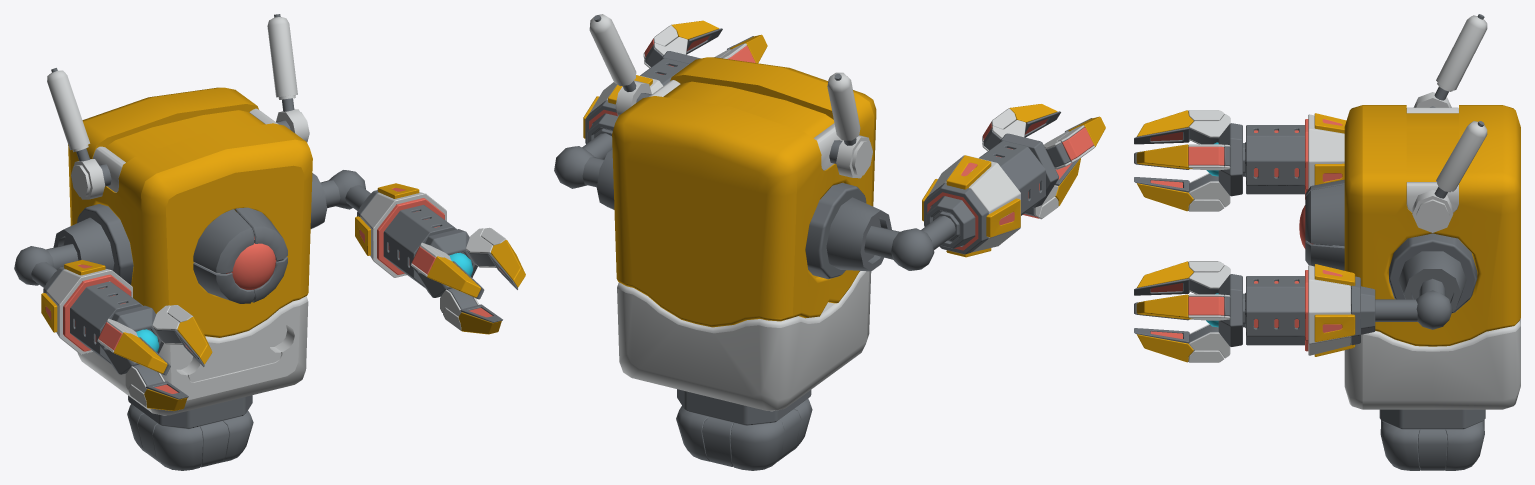
Rendered from CripGun.fbx.
3 views of the same model, side by side, from view 1: azimuth 30°, elevation 25°; view 2: azimuth 150°, elevation 25°; view 3: azimuth 270°, elevation 25° (orthographic). The views are drawn at different scales.
Visible parts, largest first — view 1: Cube.148, Cube.144, Gun, Gun_Left, Cylinder.022, Circle.180, Cube.166, Hand_Right, Hand_Left, Claw_3, ClawLeft_3, Claw_1 (+7 smaller); view 2: Cube.148, Cube.144, Gun, Hand_Right, Cube.166, Cylinder.022, Hand_Left, Gun_Left, Cube.165, Cube.147, ClawLeft_3, Claw_3 (+4 smaller); view 3: Cube.148, Cube.144, Gun_Left, Gun, Cylinder.022, Hand_Left, Cube.166, Circle.180, Claw_1, ClawLeft_1, Claw_2, ClawLeft_2 (+5 smaller).
Boxes of the visible parts, <box> form: Cube.148: <box>68,87,312,337</box>; Cube.144: <box>77,262,308,415</box>; Gun: <box>41,260,163,374</box>; Gun_Left: <box>355,183,477,297</box>; Cylinder.022: <box>47,14,309,199</box>; Circle.180: <box>193,207,287,303</box>; Cube.166: <box>127,404,253,470</box>; Hand_Right: <box>14,217,114,287</box>; Hand_Left: <box>310,170,370,228</box>; Claw_3: <box>152,305,212,366</box>; ClawLeft_3: <box>466,227,525,289</box>; Claw_1: <box>125,364,188,410</box>; Cube.148: <box>612,57,876,327</box>; Cube.144: <box>617,271,871,411</box>; Gun: <box>922,133,1058,257</box>; Hand_Right: <box>826,197,955,271</box>; Cube.166: <box>676,399,812,470</box>; Cylinder.022: <box>589,14,872,178</box>; Hand_Left: <box>554,133,614,209</box>; Gun_Left: <box>583,51,700,143</box>; Cube.165: <box>805,182,866,279</box>; Cube.147: <box>677,389,811,425</box>; ClawLeft_3: <box>643,20,722,68</box>; Claw_3: <box>982,104,1060,151</box>; Cube.148: <box>1344,105,1520,346</box>; Cube.144: <box>1344,318,1520,409</box>; Gun_Left: <box>1218,264,1375,356</box>; Gun: <box>1218,113,1346,199</box>; Cylinder.022: <box>1412,14,1487,232</box>; Hand_Left: <box>1375,251,1466,329</box>; Cube.166: <box>1380,420,1484,470</box>; Circle.180: <box>1305,179,1344,270</box>; Claw_1: <box>1134,173,1230,211</box>; ClawLeft_1: <box>1134,324,1230,362</box>; Claw_2: <box>1134,110,1230,144</box>; ClawLeft_2: <box>1134,261,1230,295</box>.
Size of the model in its own units: 519 by 488 by 437.
